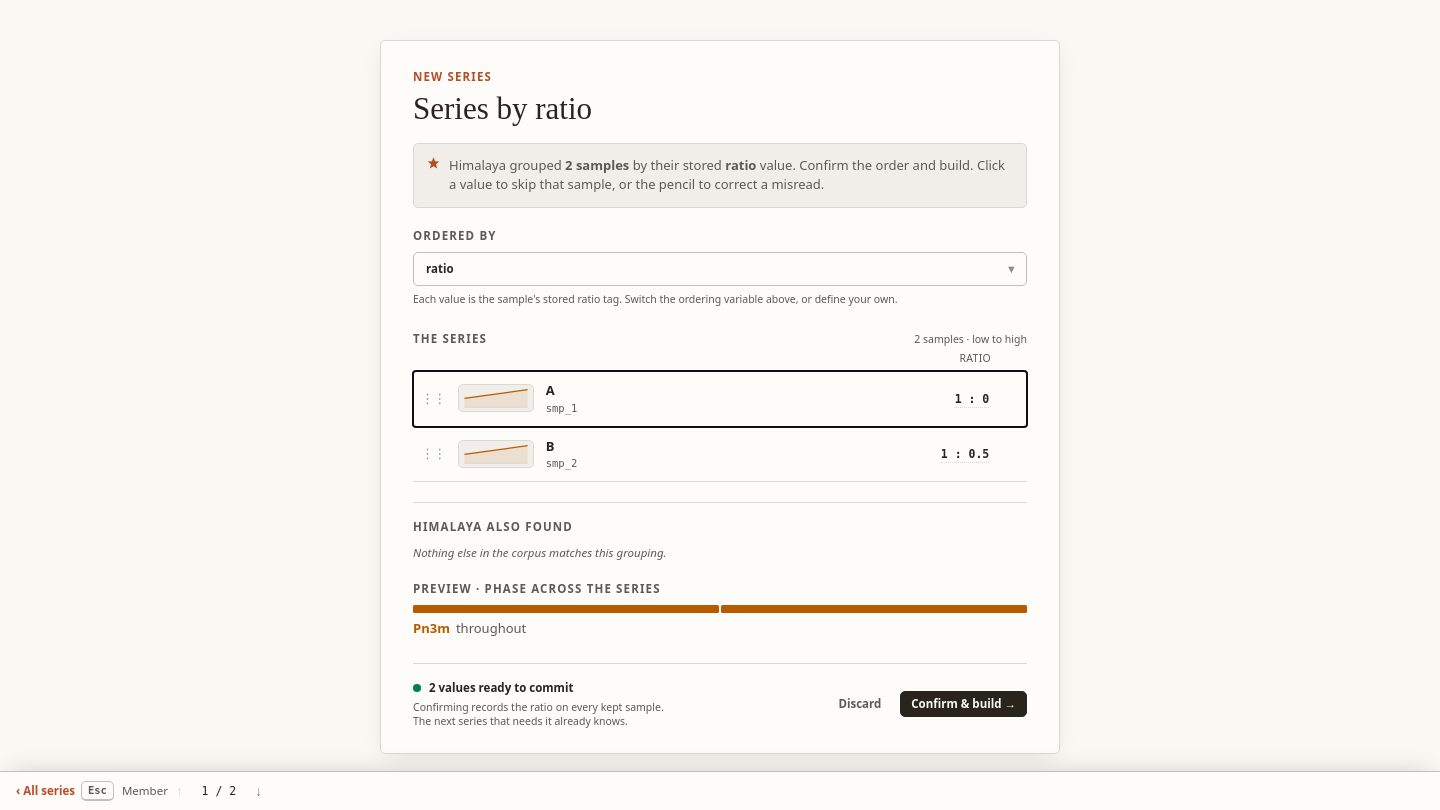
Scenario: SeriesScopingPage › lists a menu option for each distinct ordering variable
Click the button with test id "order-field" at (457, 276), box x1=413 y1=252 x2=1027 y2=286
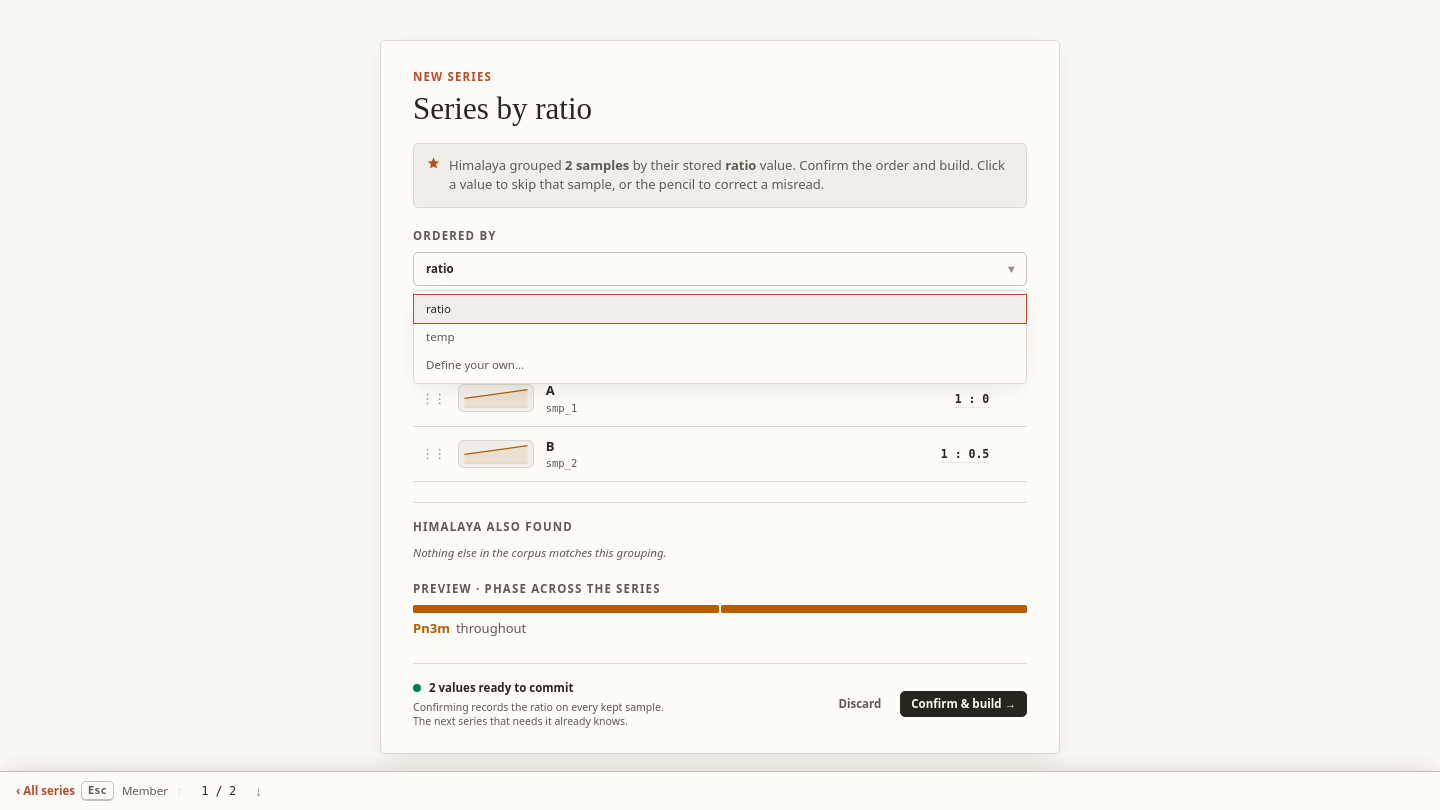
expect the menu item "ratio" is shown: met, box x1=414 y1=295 x2=1026 y2=323
expect the menu item "temp" is shown: met, box x1=414 y1=323 x2=1026 y2=351
expect the number of menu items is 3: met, box x1=414 y1=295 x2=1026 y2=323; x1=414 y1=323 x2=1026 y2=351; x1=414 y1=351 x2=1026 y2=379
